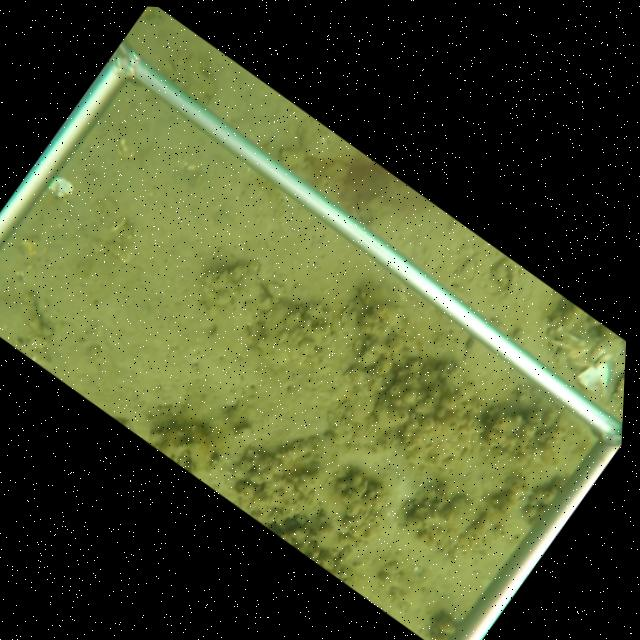Oyster-Indeterminate: (200, 257, 277, 365), (356, 286, 405, 312)
